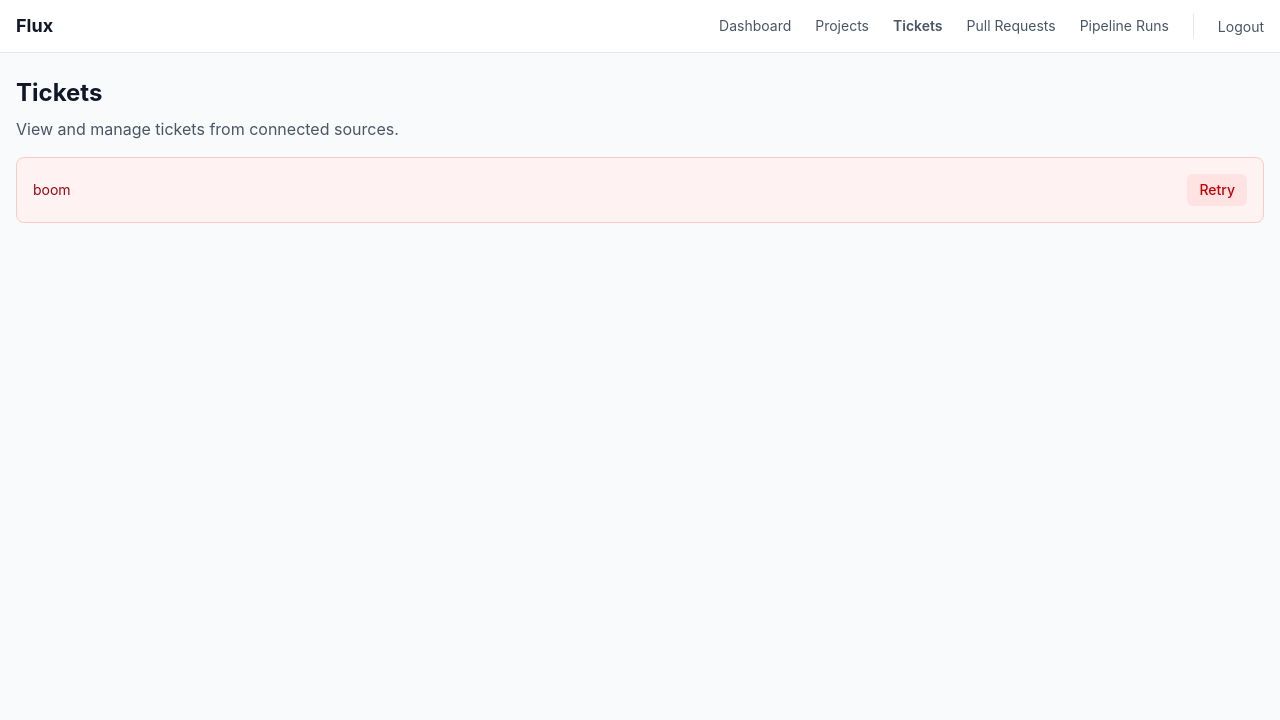
Scenario: TicketsPage › shows a retry button in the error banner
The image size is (1280, 720).
Check: the message "boom Retry" is shown, box [16, 157, 1264, 223]
Click the button "Retry" at (1217, 190), box [1187, 174, 1247, 206]
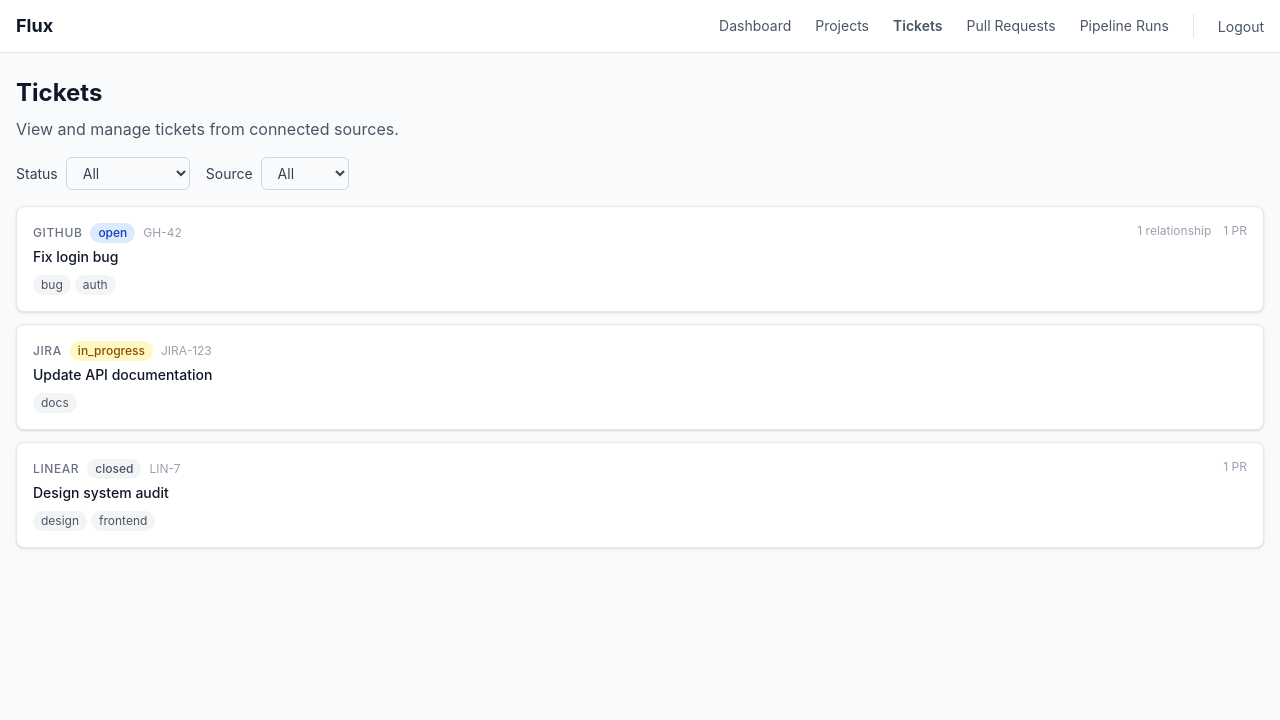
Check: the heading "Fix login bug" is shown, box [33, 248, 118, 265]
